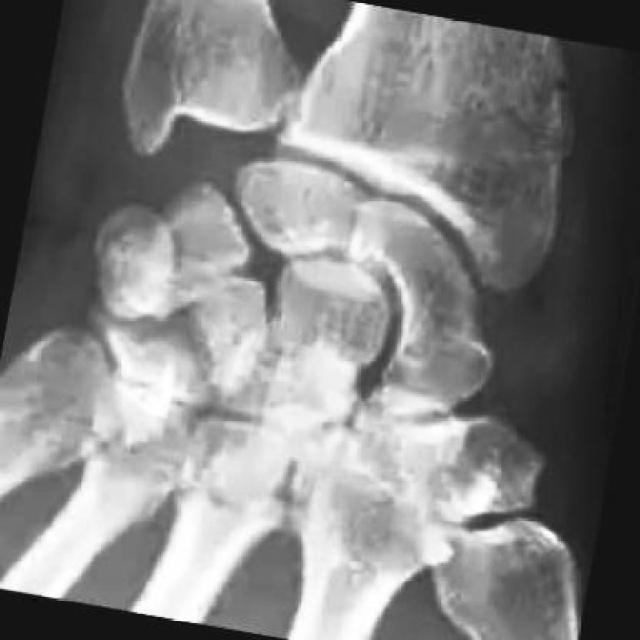bone: (62, 309, 199, 460)
